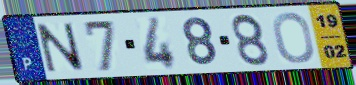4: (142, 15, 176, 71)
7: (80, 19, 119, 73)
8: (230, 12, 271, 67), (181, 16, 220, 68)
N: (34, 21, 88, 74)
O: (271, 10, 317, 65)
